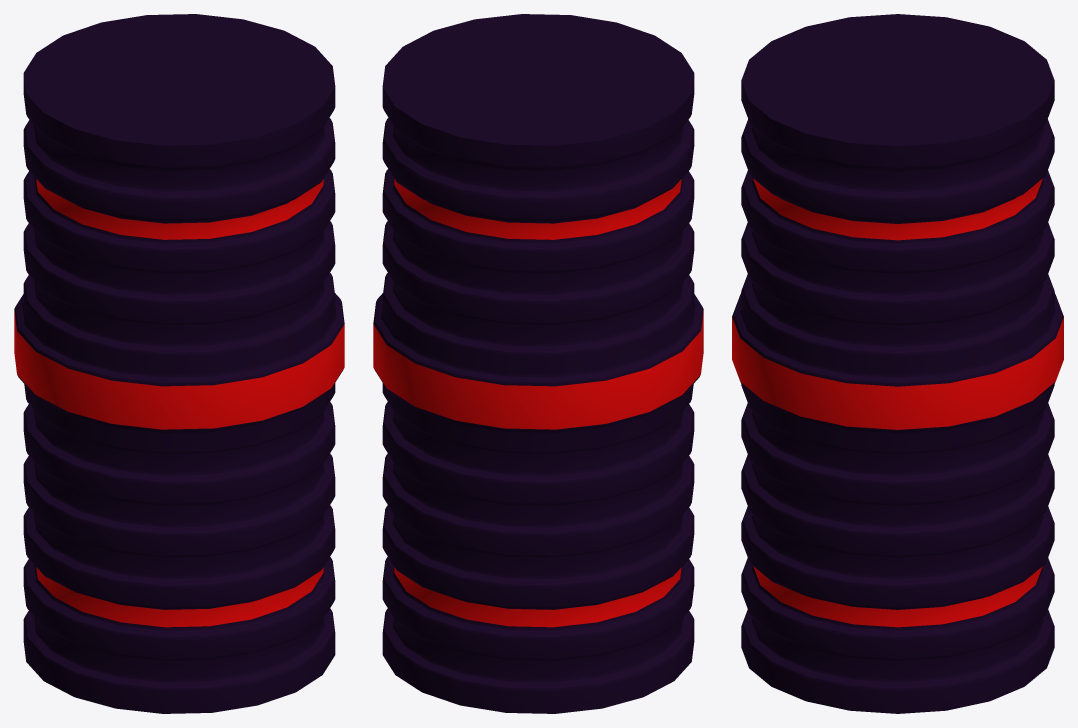
File: pillarRed.fbx
3 views of the same model, side by side, from view 1: azimuth 30°, elevation 25°; view 2: azimuth 150°, elevation 25°; view 3: azimuth 270°, elevation 25° (orthographic).
Visible parts, largest first — view 1: pCylinder1; view 2: pCylinder1; view 3: pCylinder1.
Boxes of the visible parts, x1,y1,x2,y2 form: pCylinder1: (14, 14, 344, 713); pCylinder1: (373, 14, 703, 713); pCylinder1: (732, 14, 1063, 713).
Bounding box in the file's own units: 2.12 × 4 × 2.12.
